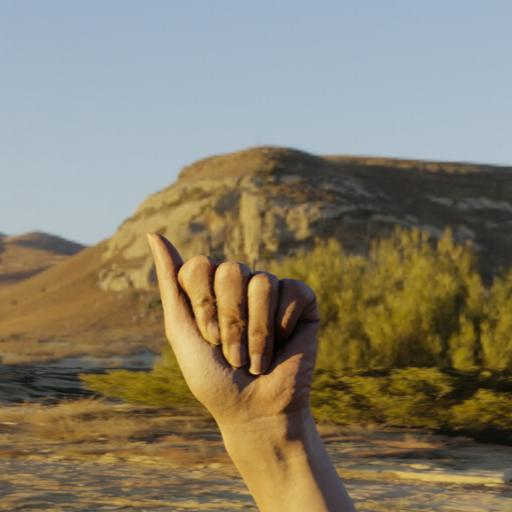A: (136, 212, 340, 431)
